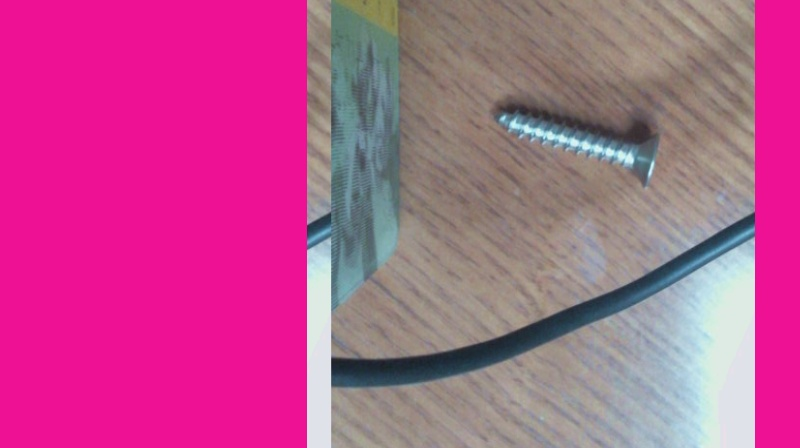S001: (492, 99, 664, 191)
